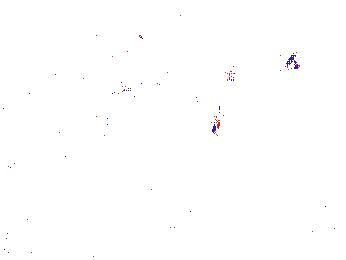glassfish: (204, 72, 226, 136)
red belly glassfish: (125, 29, 146, 42), (117, 42, 131, 56)
redtail glassfish: (117, 76, 165, 95)
